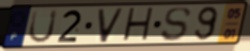2: (57, 9, 83, 44)
9: (193, 5, 220, 43)
H: (120, 6, 156, 44)
S: (159, 6, 192, 43)
U: (26, 9, 60, 45)
V: (97, 7, 126, 44)
